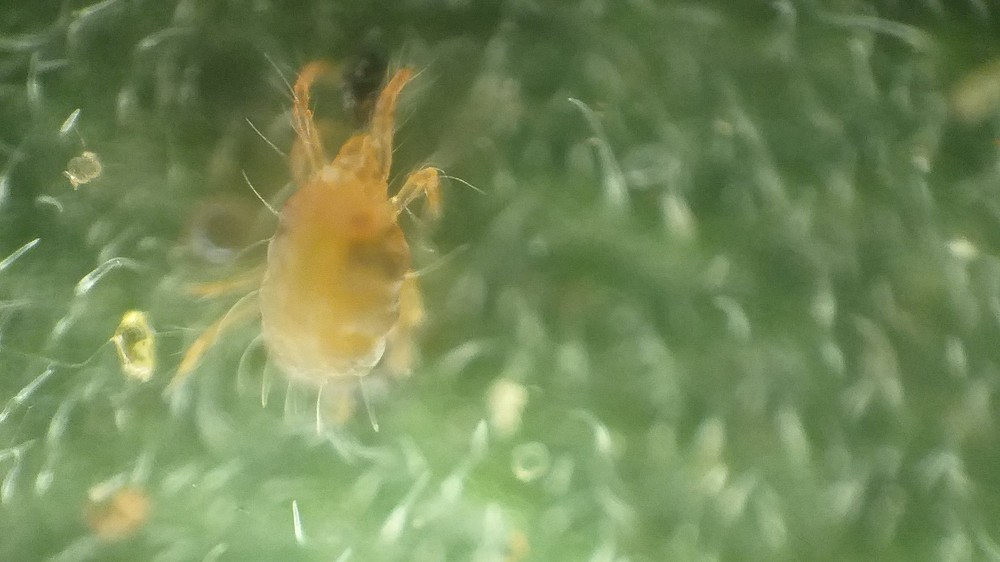Aracnido Rojo: (171, 72, 532, 454)
